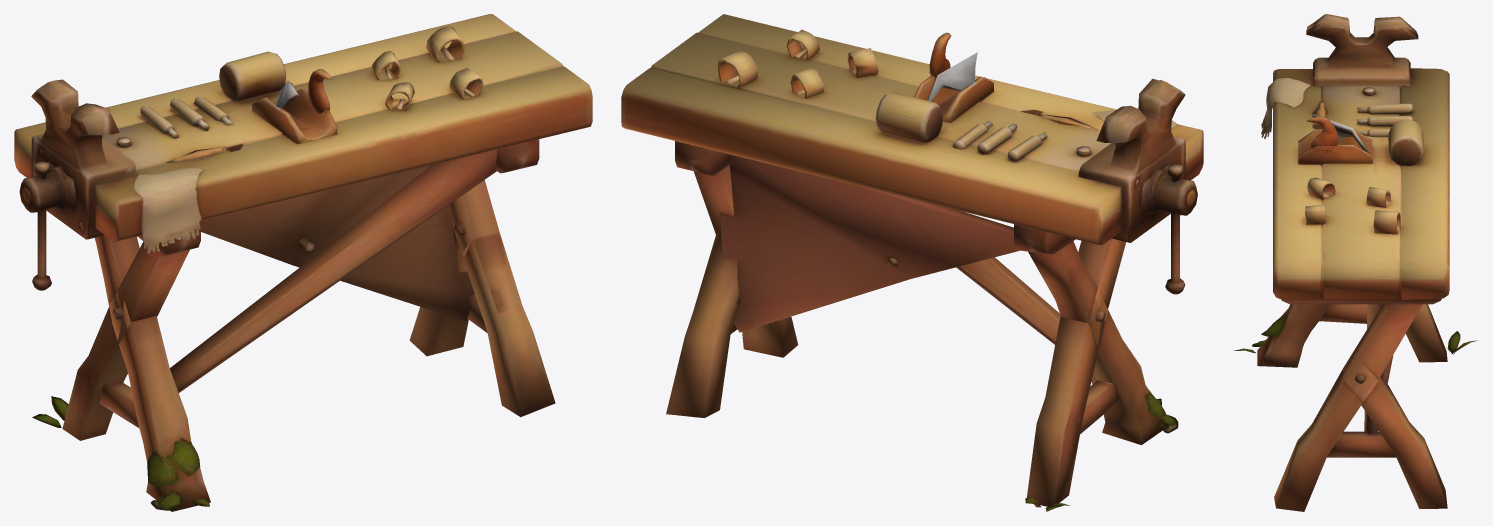
The model's file is wyn_furn_folding_worktable.glb.
The picture shows the model from 3 angles, left to right: view 1: azimuth 30°, elevation 25°; view 2: azimuth 150°, elevation 25°; view 3: azimuth 270°, elevation 25°; orthographic projection. The views are drawn at different scales.
Parts seen in each view (by area): view 1: tripo_node_66f170aa-b1f5-43e2-ac06-1ab8972afe37; view 2: tripo_node_66f170aa-b1f5-43e2-ac06-1ab8972afe37; view 3: tripo_node_66f170aa-b1f5-43e2-ac06-1ab8972afe37.
Part boxes in pixels (x1,y1,x2,y2): tripo_node_66f170aa-b1f5-43e2-ac06-1ab8972afe37: [14, 14, 592, 511]; tripo_node_66f170aa-b1f5-43e2-ac06-1ab8972afe37: [621, 14, 1203, 511]; tripo_node_66f170aa-b1f5-43e2-ac06-1ab8972afe37: [1233, 14, 1478, 511].
Size of the model in its own units: 1.4 by 1 by 0.6931.
1 material, 1 textured.
